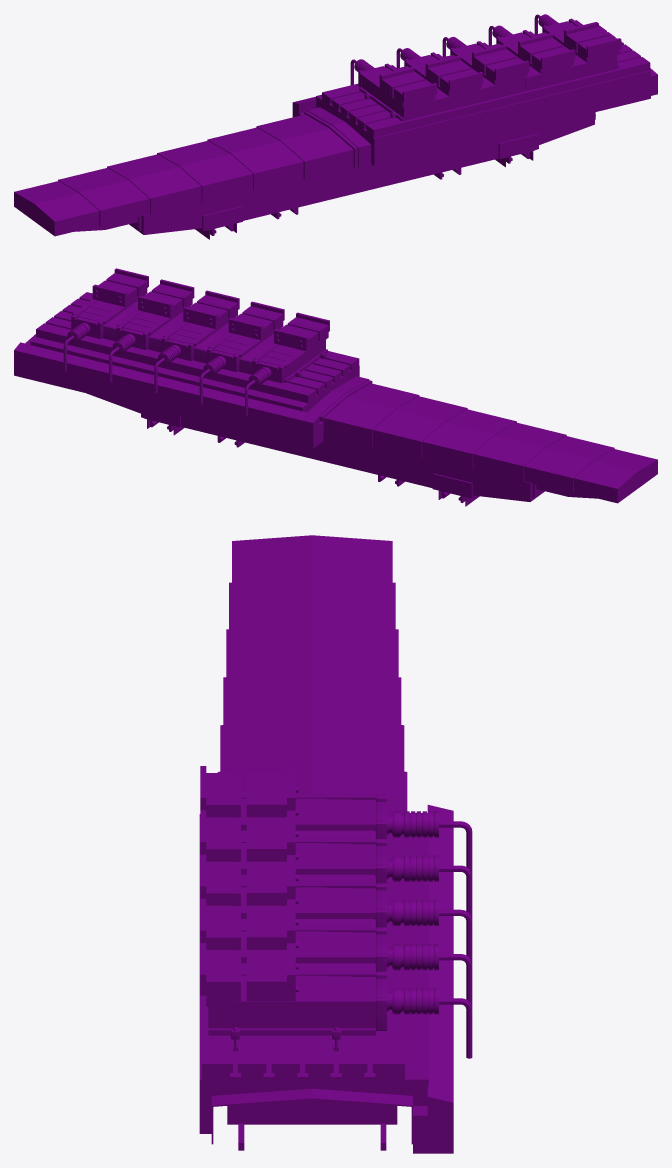
File: CENTER_01.fbx
The picture shows the model from 3 angles, top to bottom: view 1: azimuth 30°, elevation 25°; view 2: azimuth 150°, elevation 25°; view 3: azimuth 270°, elevation 25°; orthographic projection. The views are drawn at different scales.
Visible parts, largest first — view 1: UNDER_BAR_02, JOINT_BAR_, UNDER_MOVE_, JOINT_005, JOINT_01, JOINT_004, JOINT_02, JOINT_003, Rectangle002, Rectangle010, Rectangle009, Rectangle011 (+1 smaller); view 2: JOINT_BAR_, UNDER_BAR_02, UNDER_MOVE_, JOINT_005, JOINT_004, JOINT_02, JOINT_01, JOINT_003, Rectangle010, Rectangle012, Rectangle009, Rectangle011; view 3: UNDER_BAR_02, JOINT_BAR_, JOINT_01, JOINT_005, JOINT_02, JOINT_004, JOINT_003.
Boxes of the visible parts, x1,y1,x2,y2 form: UNDER_BAR_02: (14,111,357,236); JOINT_BAR_: (292,25,657,167); UNDER_MOVE_: (129,112,594,239); JOINT_005: (350,59,436,121); JOINT_01: (534,14,621,76); JOINT_004: (396,48,483,110); JOINT_02: (488,25,575,87); JOINT_003: (442,36,529,98); Rectangle002: (74,112,595,231); Rectangle010: (490,43,542,90); Rectangle009: (535,32,588,79); Rectangle011: (443,55,495,102); JOINT_BAR_: (14,292,369,448); UNDER_BAR_02: (319,380,657,503); UNDER_MOVE_: (87,393,544,506); JOINT_005: (245,312,329,415); JOINT_004: (199,301,284,404); JOINT_02: (109,279,194,382); JOINT_01: (63,268,148,371); JOINT_003: (154,290,239,393); Rectangle010: (148,306,190,352); Rectangle012: (239,328,280,374); Rectangle009: (103,300,137,341); Rectangle011: (194,322,228,363); UNDER_BAR_02: (217,535,407,811); JOINT_BAR_: (199,798,453,1153); JOINT_01: (200,943,472,1058); JOINT_005: (200,766,472,874); JOINT_02: (200,898,472,1006); JOINT_004: (200,810,472,918); JOINT_003: (200,854,472,962).
Size of the model in its own units: 4742 by 941 by 793.
